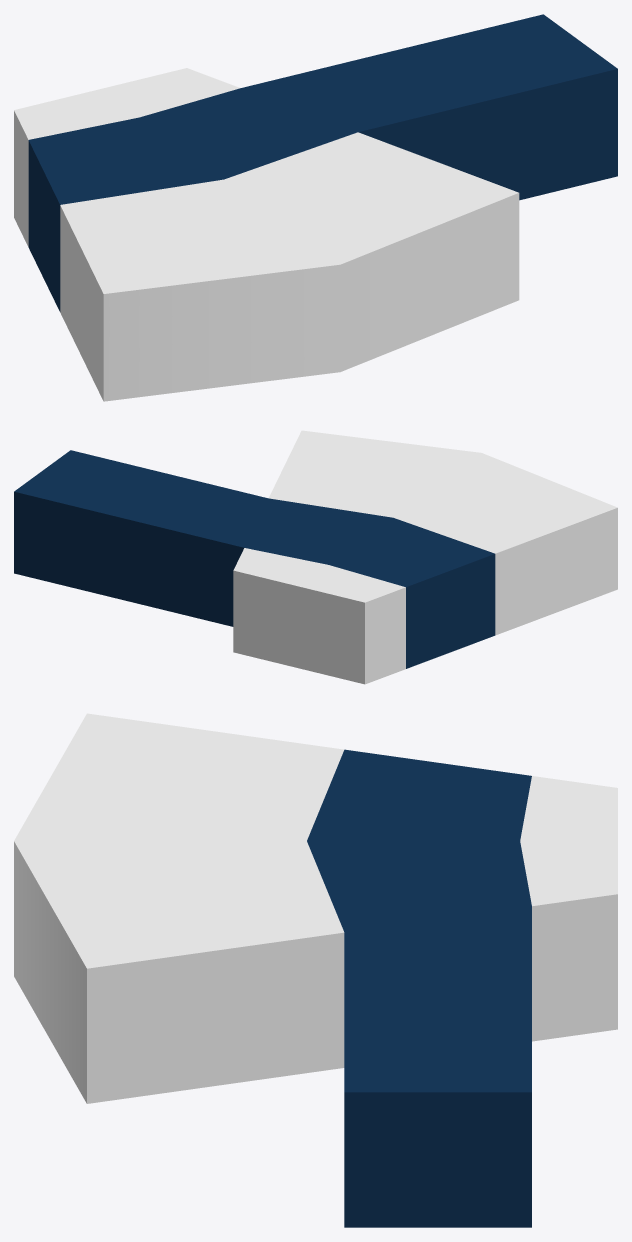
The model's file is Axe.fbx.
3 views of the same model, one above another, from view 1: azimuth 30°, elevation 25°; view 2: azimuth 150°, elevation 25°; view 3: azimuth 270°, elevation 25° (orthographic). The views are drawn at different scales.
Parts seen in each view (by area): view 1: pPlane2; view 2: pPlane2; view 3: pPlane2.
Part boxes in pixels (left/top/right/bottom): pPlane2: left=14, top=14, right=617, bottom=401; pPlane2: left=14, top=430, right=617, bottom=684; pPlane2: left=14, top=713, right=617, bottom=1227.
Size of the model in its own units: 4.97 by 0.8281 by 3.35.
